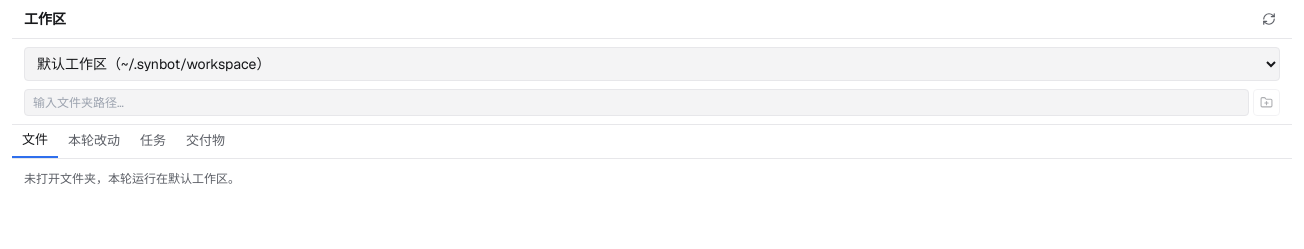
ProjectPanel checkpoint view › renders the task board and ticks a task from the panel
Click the button "任务" at (153, 141), box [130, 125, 176, 158]
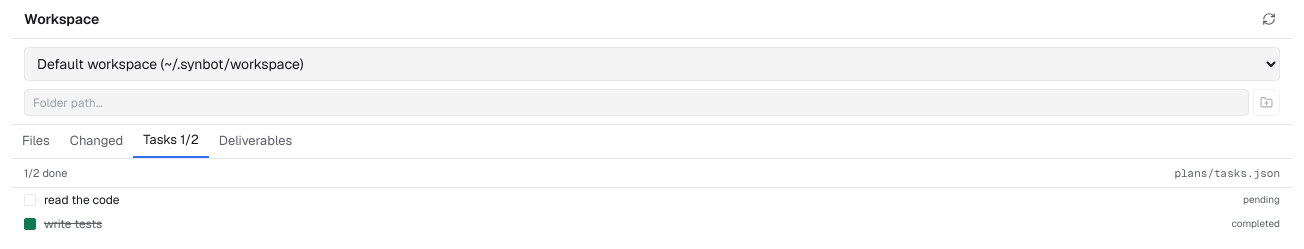
Check: the text "write tests" is shown, box [44, 216, 102, 232]
Click the button "read the code pending" at (82, 200), box [12, 188, 1292, 212]
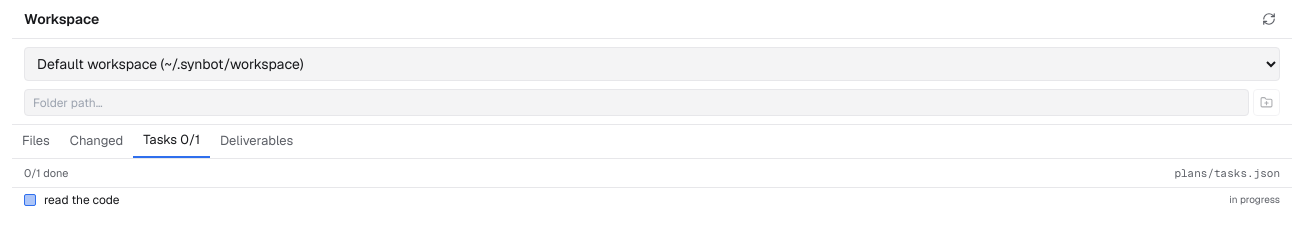
Check: the button "write tests" is gone
